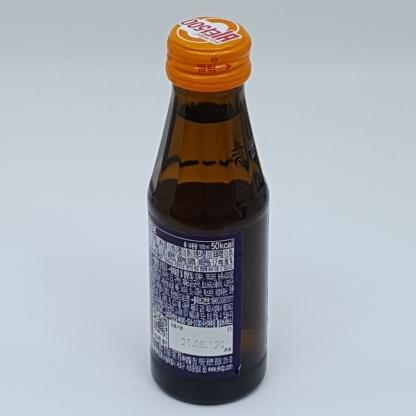-----500---100ML: (147, 16, 269, 407)
